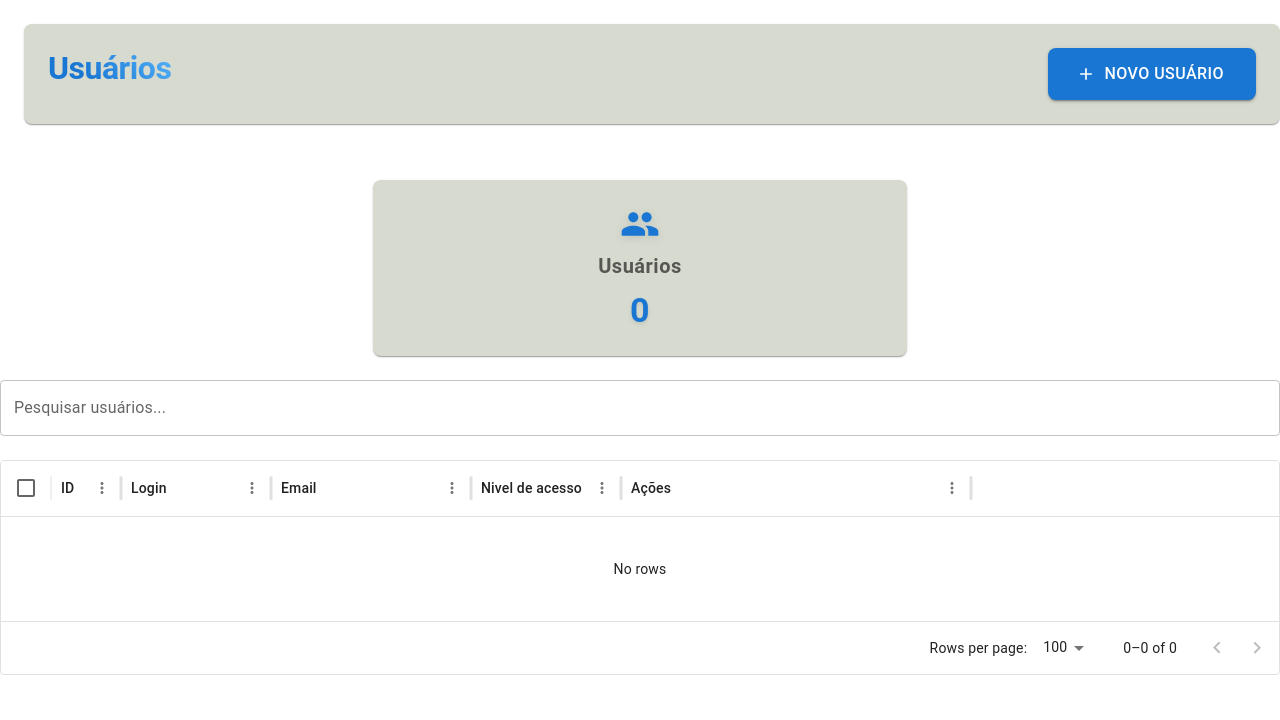
Test: Componente Usuario › Abre formulário para novo
The width and height of the screenshot is (1280, 720).
Click the button "Novo Usuário": (1152, 74) [1048,48,1256,100]
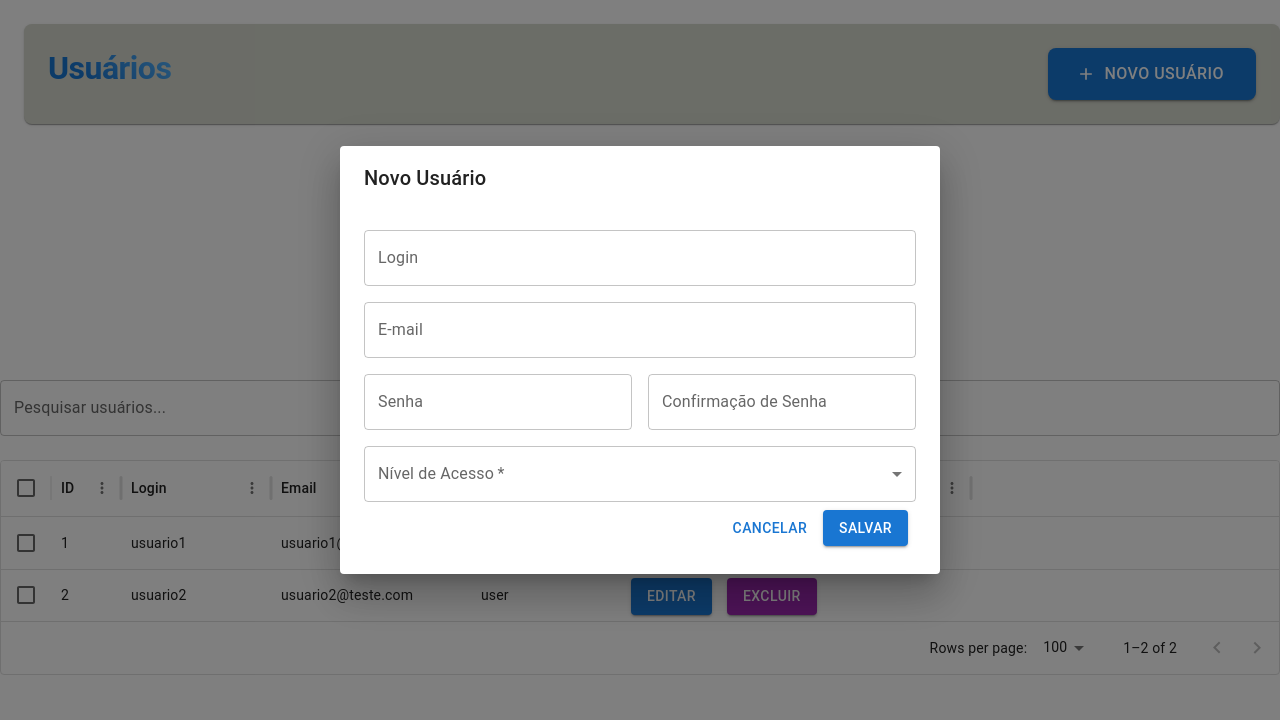
Check: the dialog is shown, box [340,146,940,574]
